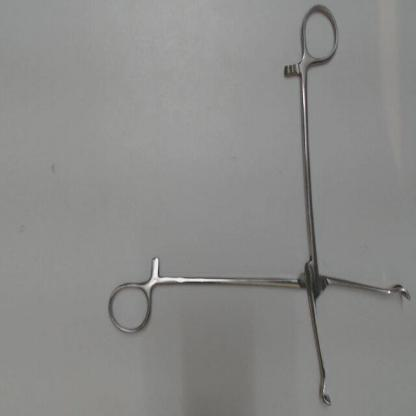8 Babcock Tissue Forceps: (104, 1, 413, 412)
